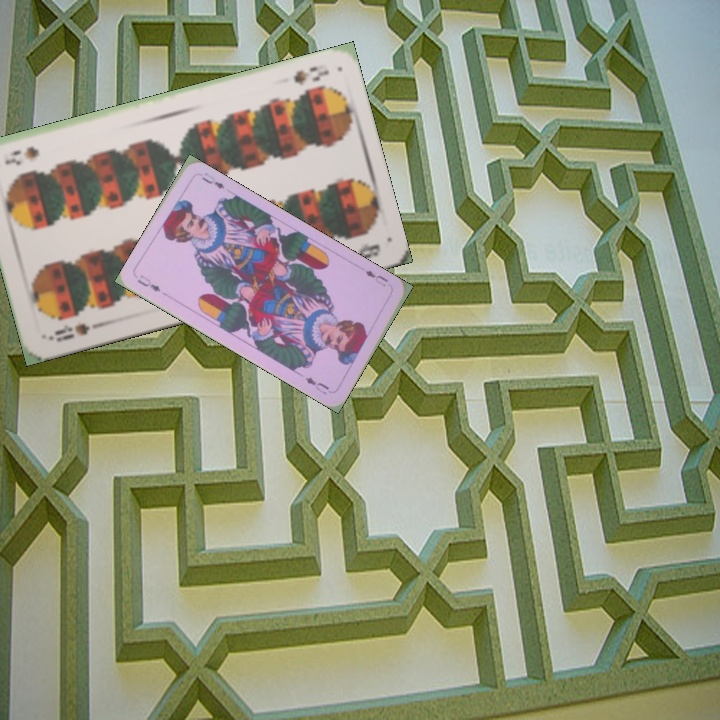EU: (361, 266, 394, 291), (133, 271, 163, 294)
S8: (44, 318, 103, 345), (290, 62, 332, 88)
